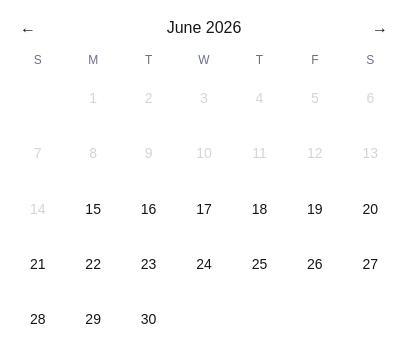
Test: DatePicker › navigates to the next/previous month
Click the button named "Next month". click: (380,28)
box: [364,12,396,44]
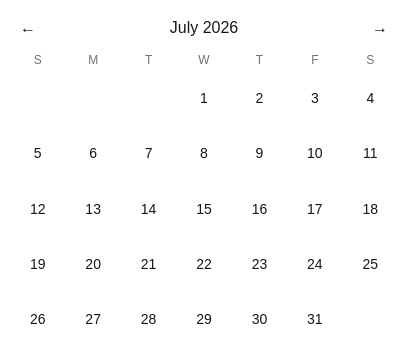
Result: the text "July 2026" is shown at [170,16,238,40]
Click the button named "Previous month". click: (28,28)
box: [12,12,44,44]
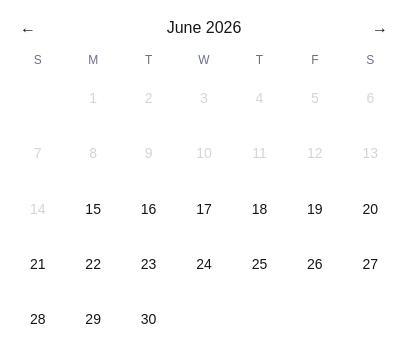
Result: the text "June 2026" is shown at [167,16,241,40]
